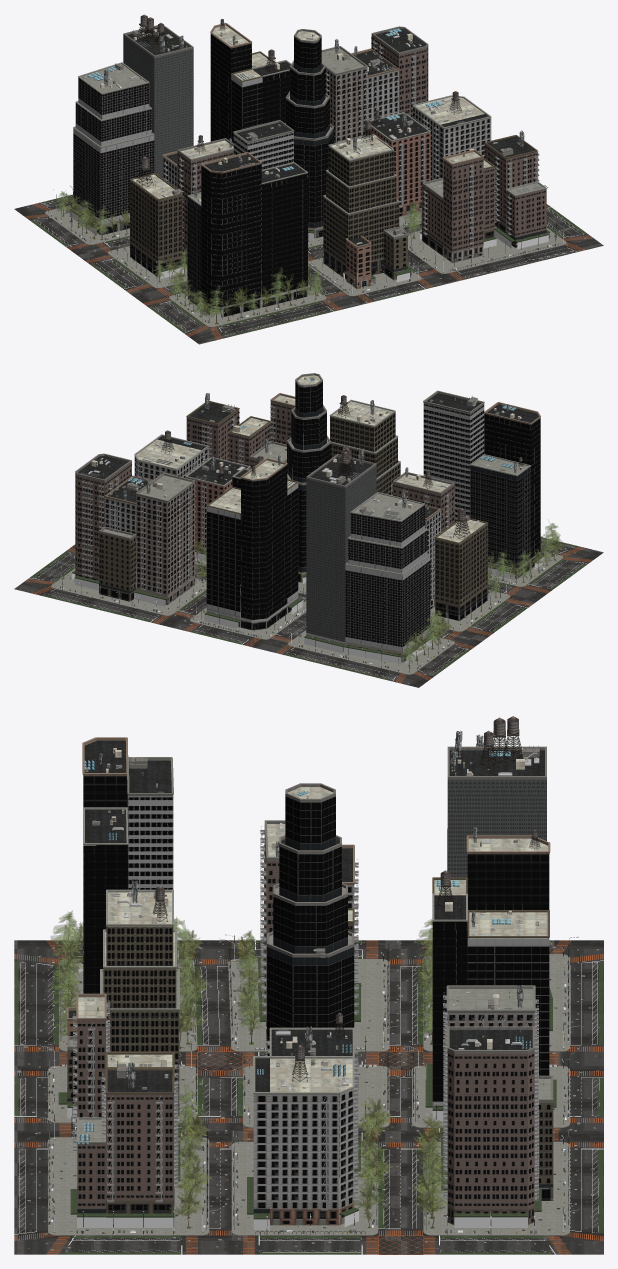
Rendered from nyc-block.glb.
The picture shows the model from 3 angles, top to bottom: view 1: azimuth 30°, elevation 25°; view 2: azimuth 150°, elevation 25°; view 3: azimuth 270°, elevation 25°; orthographic projection. The views are drawn at different scales.
Visible parts, largest first — view 1: Object_122, Object_69, Object_16, Object_18, Object_124, Object_50, Object_57, Object_65, Object_59, Object_116, Object_8, Object_30 (+21 smaller); view 2: Object_122, Object_69, Object_16, Object_124, Object_18, Object_57, Object_65, Object_59, Object_112, Object_50, Object_116, Object_8 (+21 smaller); view 3: Object_69, Object_16, Object_122, Object_18, Object_50, Object_14, Object_124, Object_116, Object_57, Object_8, Object_52, Object_30 (+22 smaller).
Boxes of the visible parts, x1,y1,x2,y2 form: Object_122: [73, 34, 333, 317]; Object_69: [130, 35, 546, 289]; Object_16: [14, 196, 603, 344]; Object_18: [45, 205, 566, 326]; Object_124: [123, 35, 193, 178]; Object_50: [55, 191, 421, 319]; Object_57: [132, 97, 491, 198]; Object_65: [164, 31, 548, 253]; Object_59: [166, 28, 534, 245]; Object_116: [127, 27, 322, 182]; Object_8: [30, 194, 587, 337]; Object_30: [45, 185, 570, 324]; Object_122: [206, 381, 540, 662]; Object_69: [75, 401, 487, 620]; Object_16: [14, 538, 603, 687]; Object_124: [306, 465, 376, 641]; Object_18: [51, 540, 562, 674]; Object_57: [136, 395, 484, 543]; Object_65: [80, 437, 455, 600]; Object_59: [78, 402, 437, 518]; Object_112: [287, 390, 527, 574]; Object_50: [203, 520, 561, 662]; Object_116: [235, 393, 538, 485]; Object_8: [31, 537, 587, 680]; Object_69: [67, 828, 553, 1225]; Object_16: [14, 940, 603, 1254]; Object_122: [83, 776, 549, 1106]; Object_18: [48, 954, 569, 1235]; Object_50: [49, 911, 551, 1212]; Object_14: [14, 940, 603, 1254]; Object_124: [447, 779, 546, 877]; Object_116: [84, 740, 544, 921]; Object_57: [78, 824, 353, 1094]; Object_8: [14, 940, 603, 1254]; Object_52: [50, 922, 445, 1213]; Object_30: [38, 928, 579, 1234].
Bounding box in the file's own units: 248 × 112 × 196.
44 materials, 32 textured.
